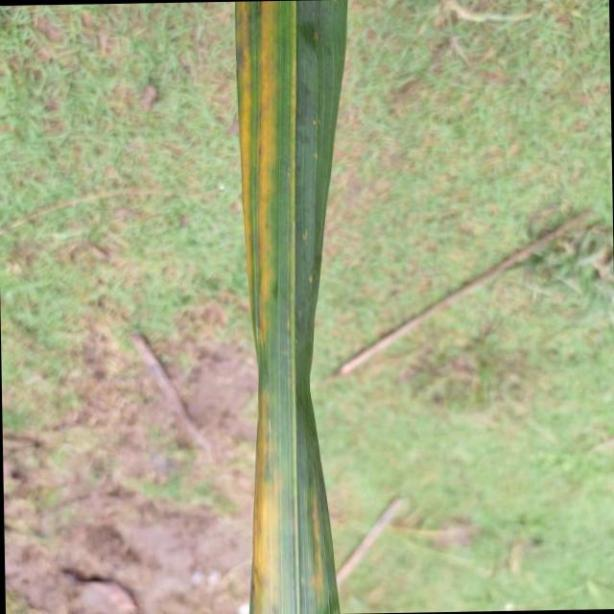Megnesium: (229, 0, 342, 614)
